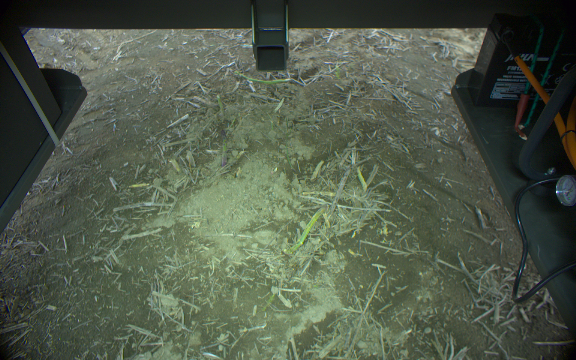aspa: (283, 203, 329, 255), (232, 70, 295, 85), (353, 166, 369, 192), (218, 128, 228, 168), (309, 160, 324, 181), (215, 92, 225, 117)
